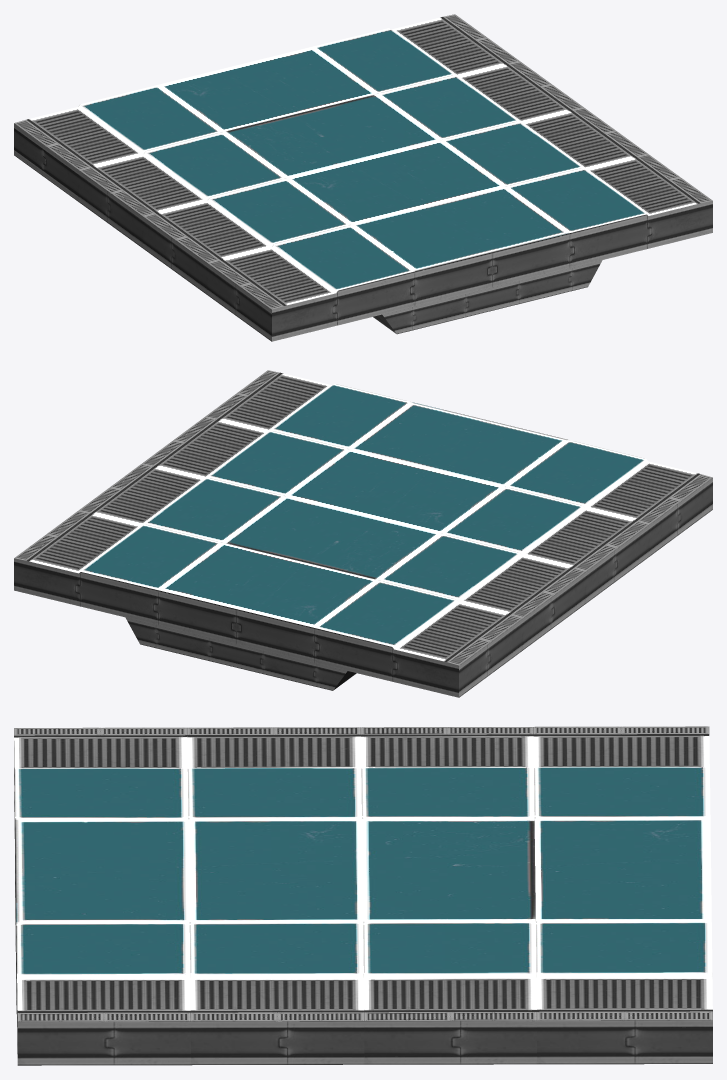
The model's file is ARC1110027.fbx.
3 renders of one model, top to bottom at view 1: azimuth 30°, elevation 25°; view 2: azimuth 150°, elevation 25°; view 3: azimuth 270°, elevation 25°, orthographic. The views are drawn at different scales.
Visible parts, largest first — view 1: smARC1110027; view 2: smARC1110027; view 3: smARC1110027.
Boxes of the visible parts, x1,y1,x2,y2 form: smARC1110027: (14,14,712,341); smARC1110027: (14,370,712,697); smARC1110027: (14,726,712,1065).
Size of the model in its own units: 531 by 66.69 by 532.
Materials: 1 (1 with a texture image).
